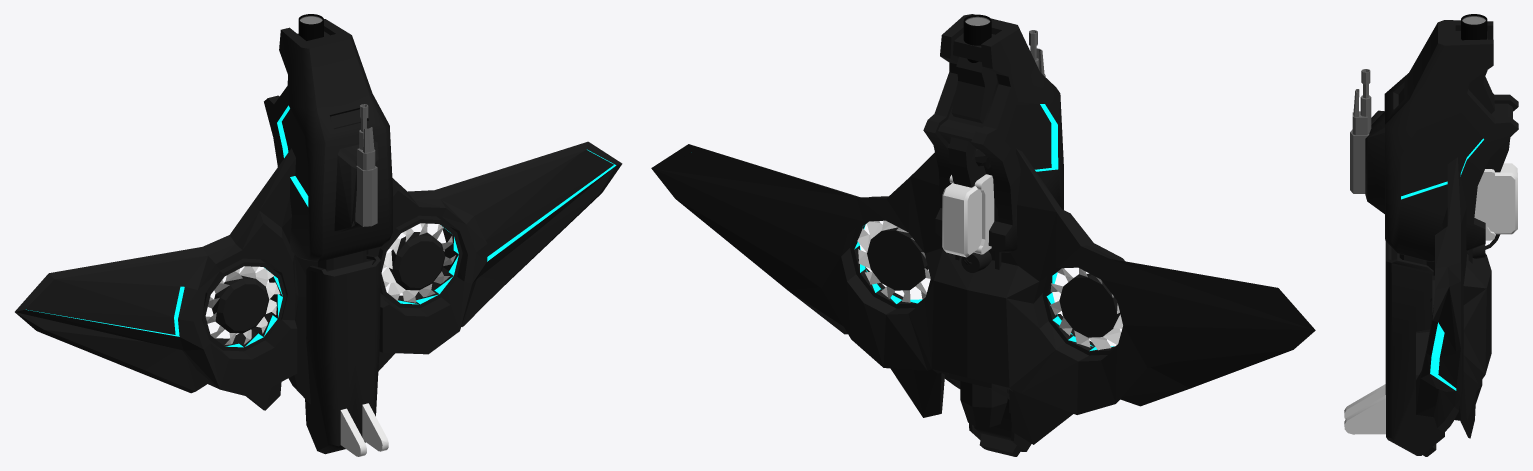
The model's file is Air Drone blend.fbx.
3 views of the same model, side by side, from view 1: azimuth 30°, elevation 25°; view 2: azimuth 150°, elevation 25°; view 3: azimuth 270°, elevation 25° (orthographic). The views are drawn at different scales.
Visible parts, largest first — view 1: Drone, Mesh_0814.001, Drone.001, Mesh_0822.001, Propllier 2, propller 1, Circle.001; view 2: Drone, Mesh_0814.001, Mesh_0821.001, propller 1, Propllier 2, Circle.001; view 3: Mesh_0814.001, Drone, Mesh_0821.001, Drone.001, Mesh_0822.001, Circle.001.
Part boxes in pixels (box(x1,y1,x2,y2)): Drone: box(15, 141, 622, 410); Mesh_0814.001: box(264, 19, 392, 454); Drone.001: box(355, 104, 377, 226); Mesh_0822.001: box(340, 403, 388, 456); Propllier 2: box(205, 266, 280, 344); propller 1: box(381, 223, 455, 302); Circle.001: box(298, 14, 323, 40); Drone: box(651, 144, 1315, 444); Mesh_0814.001: box(923, 14, 1063, 456); Mesh_0821.001: box(942, 174, 994, 257); propller 1: box(857, 220, 930, 302); Propllier 2: box(1050, 268, 1122, 350); Circle.001: box(963, 14, 991, 62); Mesh_0814.001: box(1365, 20, 1518, 456); Drone: box(1416, 157, 1491, 438); Mesh_0821.001: box(1474, 163, 1517, 240); Drone.001: box(1350, 69, 1371, 193); Mesh_0822.001: box(1344, 384, 1385, 434); Circle.001: box(1461, 14, 1487, 40).
Size of the model in its own units: 0.4491 by 1.88 by 1.22.
